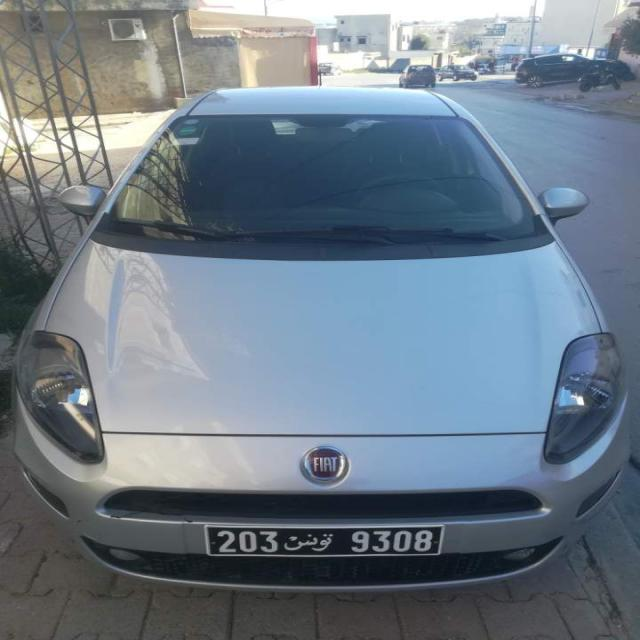LP: (201, 518, 444, 560)
